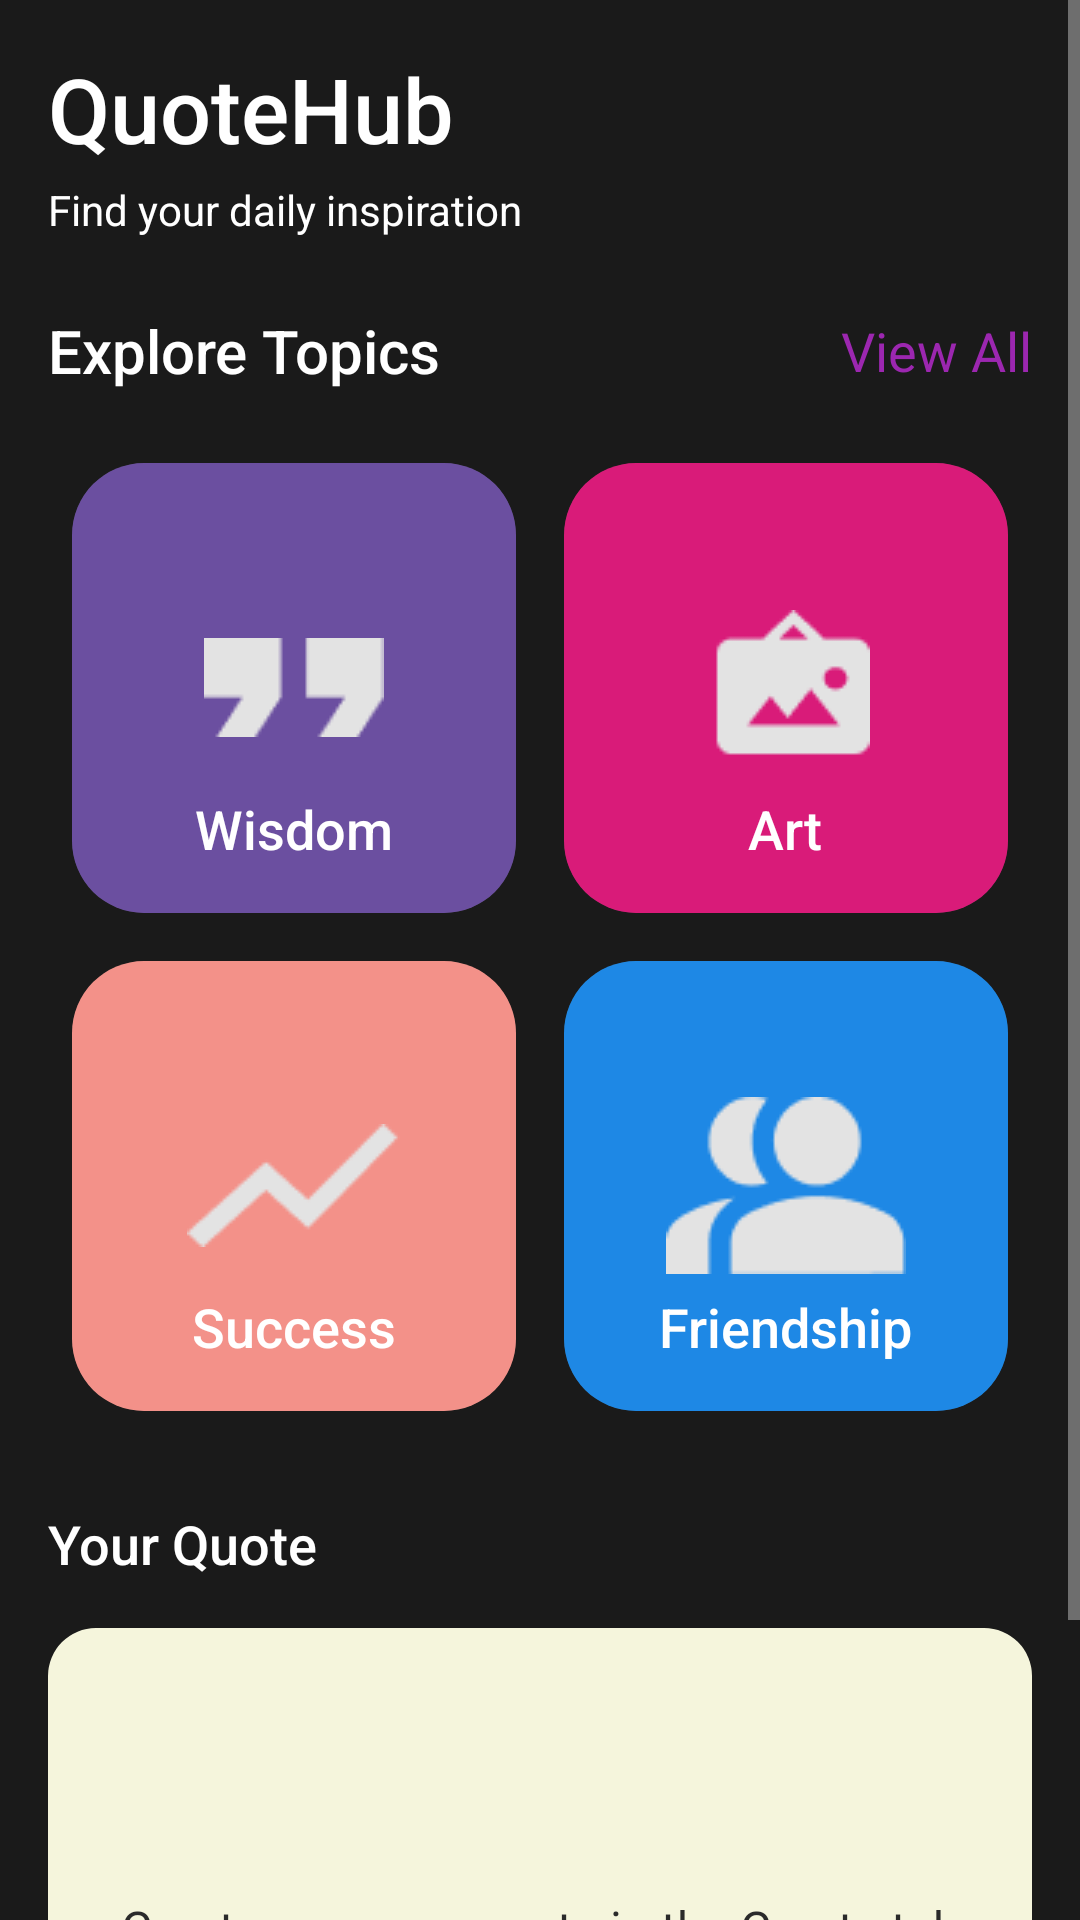

Locate icon controls on the screen. Image size 1080w x 1920h, boxes as bbox(x1, y1, x2, y2).
quote: bbox(204, 638, 384, 737)
